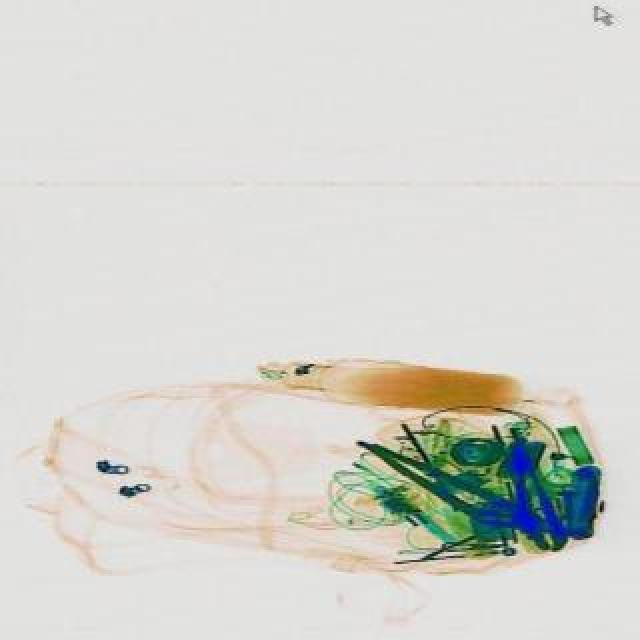wrench: (348, 426, 542, 544)
